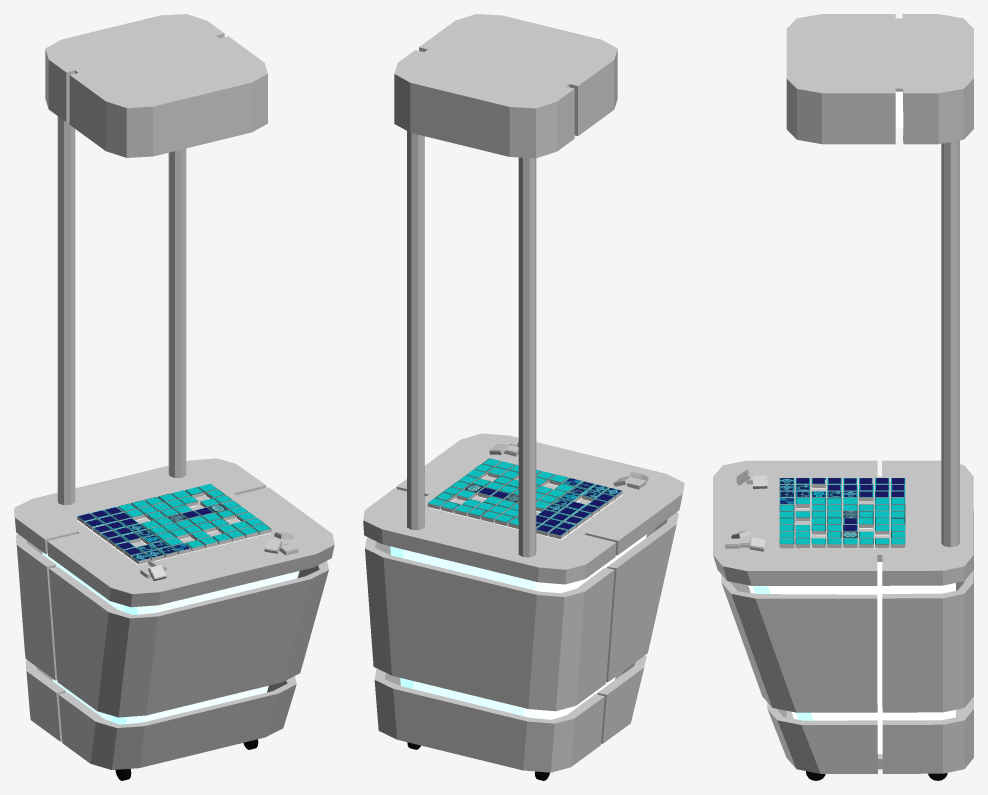
Rendered from stand_light.glb.
The picture shows the model from 3 angles, left to right: view 1: azimuth 30°, elevation 25°; view 2: azimuth 150°, elevation 25°; view 3: azimuth 270°, elevation 25°; orthographic projection. The views are drawn at different scales.
Parts seen in each view (by area): view 1: stand; view 2: stand; view 3: stand.
Part boxes in pixels (x1,y1,x2,y2): stand: [14, 14, 334, 780]; stand: [363, 14, 684, 780]; stand: [713, 14, 973, 780].
Size of the model in its own units: 698 by 2045 by 696.
4 materials, 1 textured.
